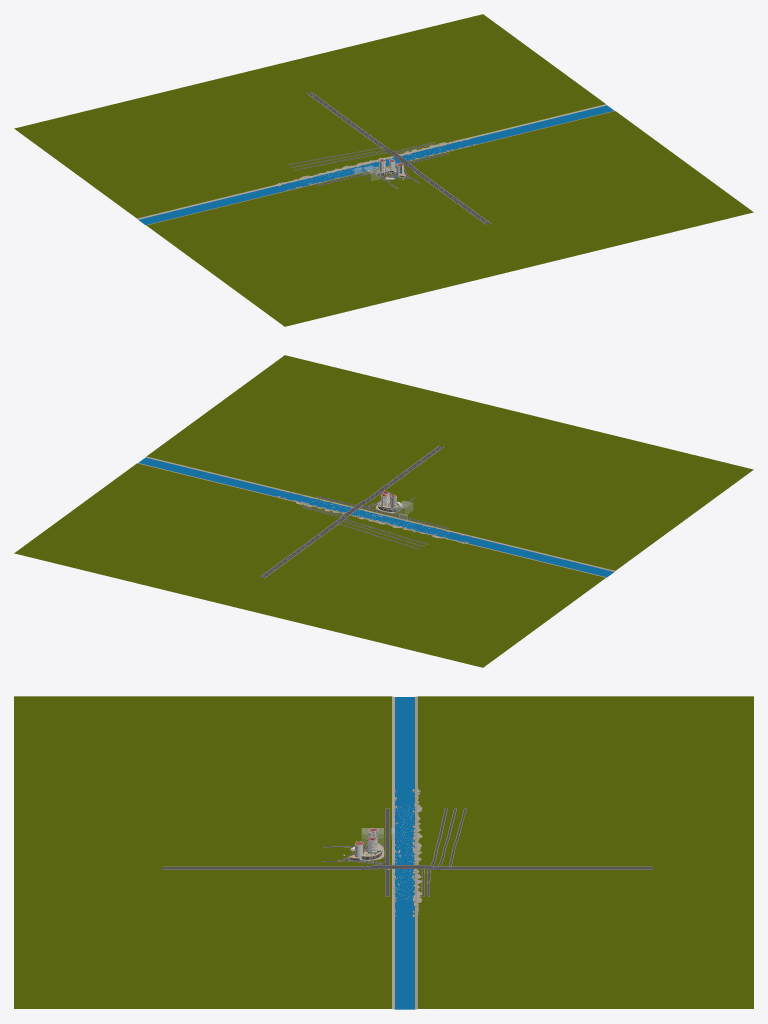
Rendered from shahrofar.glb.
3 renders of one model, top to bottom at view 1: azimuth 30°, elevation 25°; view 2: azimuth 150°, elevation 25°; view 3: azimuth 270°, elevation 25°, orthographic. The views are drawn at different scales.
Parts seen in each view (by area): view 1: Site ground, Avenue and bridge; view 2: Site ground, Avenue and bridge; view 3: Site ground, Avenue and bridge.
Part boxes in pixels (x1,y1,x2,y2): Site ground: [14, 14, 753, 326]; Avenue and bridge: [307, 92, 490, 224]; Site ground: [14, 355, 753, 667]; Avenue and bridge: [260, 445, 443, 578]; Site ground: [14, 696, 753, 1009]; Avenue and bridge: [162, 863, 652, 869].
Size of the model in its own units: 3000 by 92.19 by 3000.
